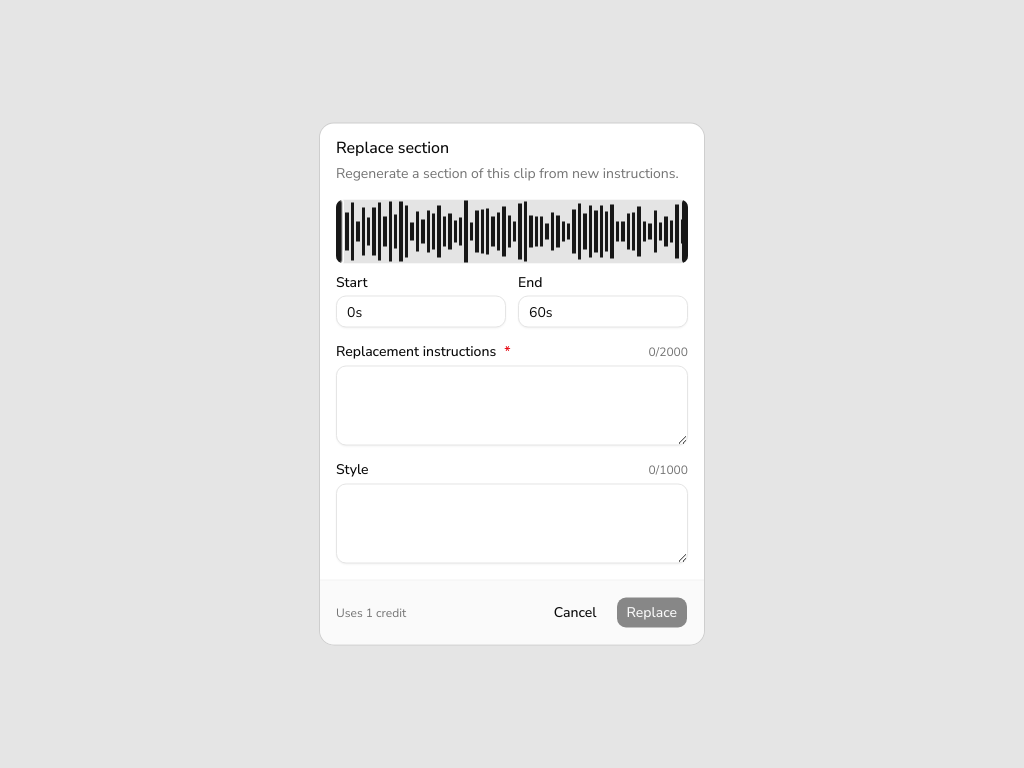
ReplaceSectionModal › disables submit until replacement instructions are provided
Expected: the button "Replace" is disabled, x1=616 y1=596 x2=688 y2=628
Type "make it jazzy" into the text box labelled "Replacement instructions *". click: (512, 406)
box: x1=336 y1=366 x2=688 y2=446
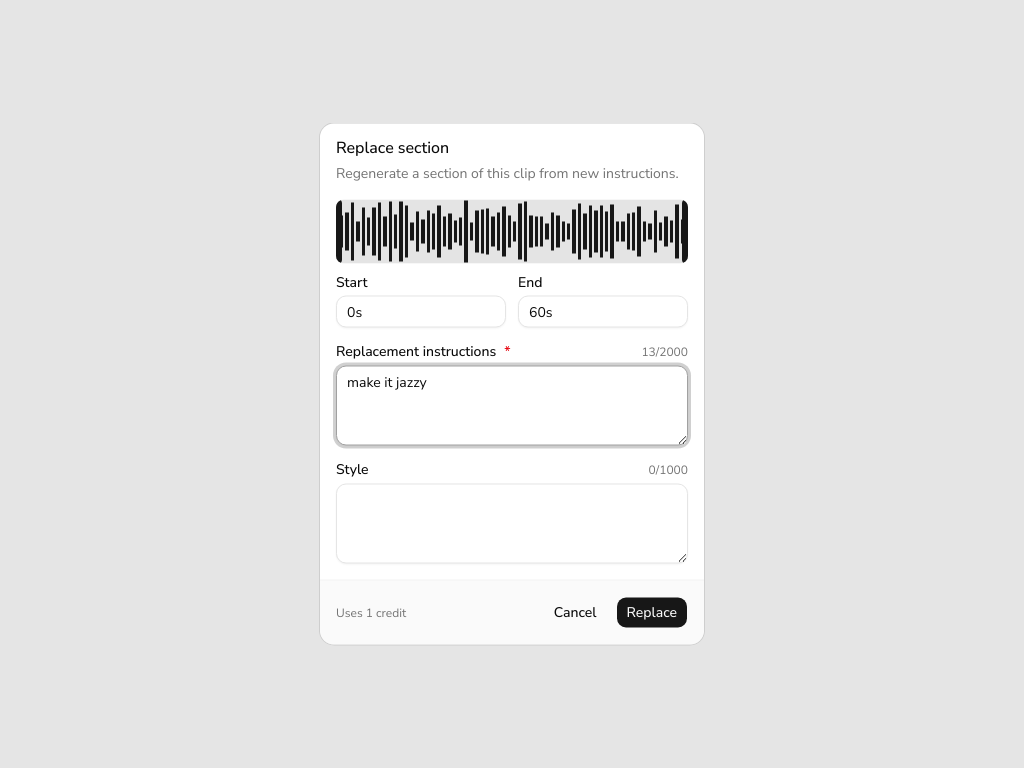
Now the button "Replace" is enabled, box x1=616 y1=596 x2=688 y2=628
